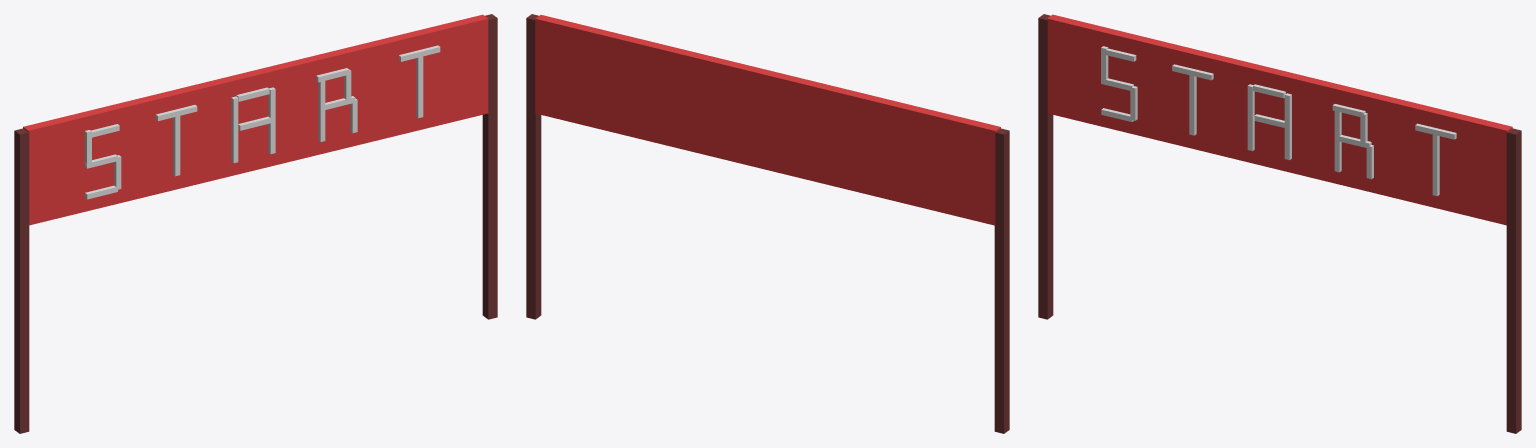
The model's file is startingLine.fbx.
The picture shows the model from 3 angles, left to right: view 1: azimuth 30°, elevation 25°; view 2: azimuth 150°, elevation 25°; view 3: azimuth 330°, elevation 25°; orthographic projection.
Parts seen in each view (by area): view 1: pCube24; view 2: pCube24; view 3: pCube24.
Part boxes in pixels (box(x1,y1,x2,y2)): pCube24: box(14, 14, 497, 433); pCube24: box(526, 14, 1009, 433); pCube24: box(1038, 14, 1521, 433).
Bounding box in the file's own units: 36.25 × 21.82 × 1.02.
